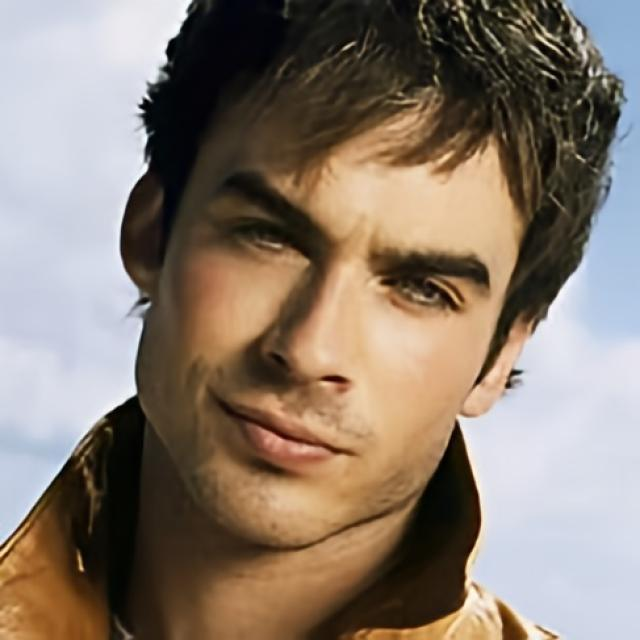content: (135, 39, 530, 550)
